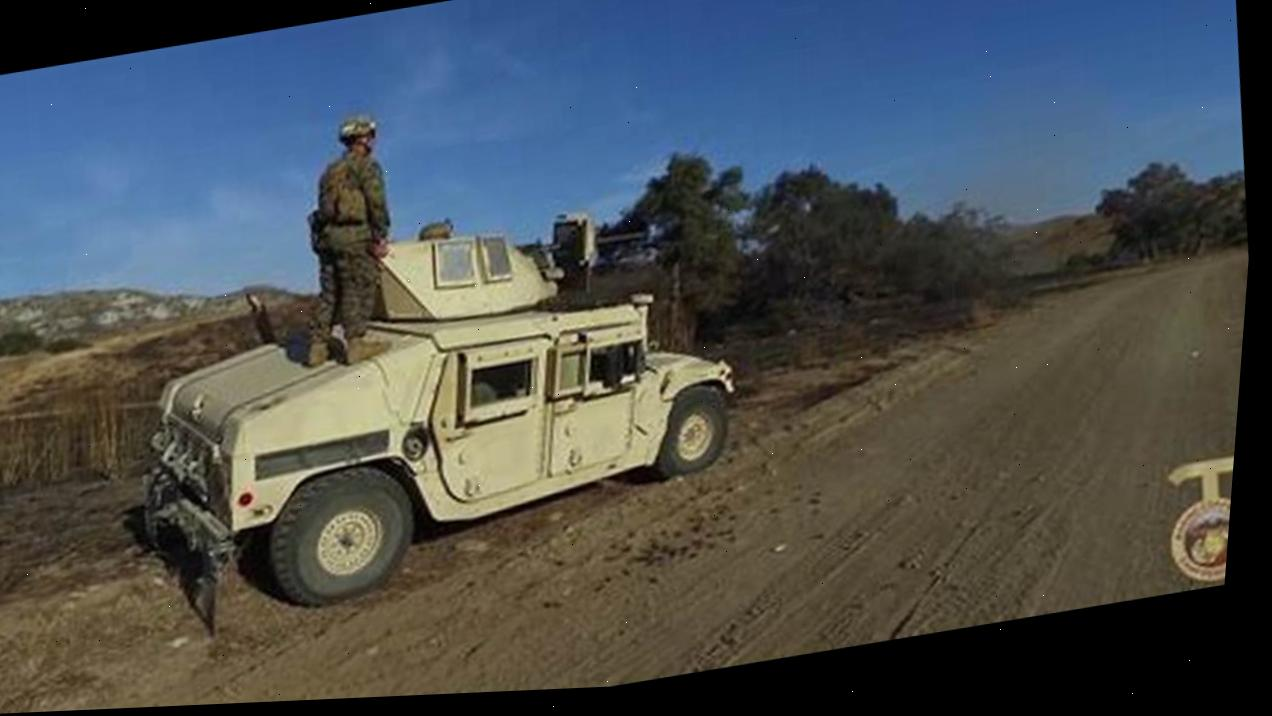armored_car: (90, 188, 773, 642)
